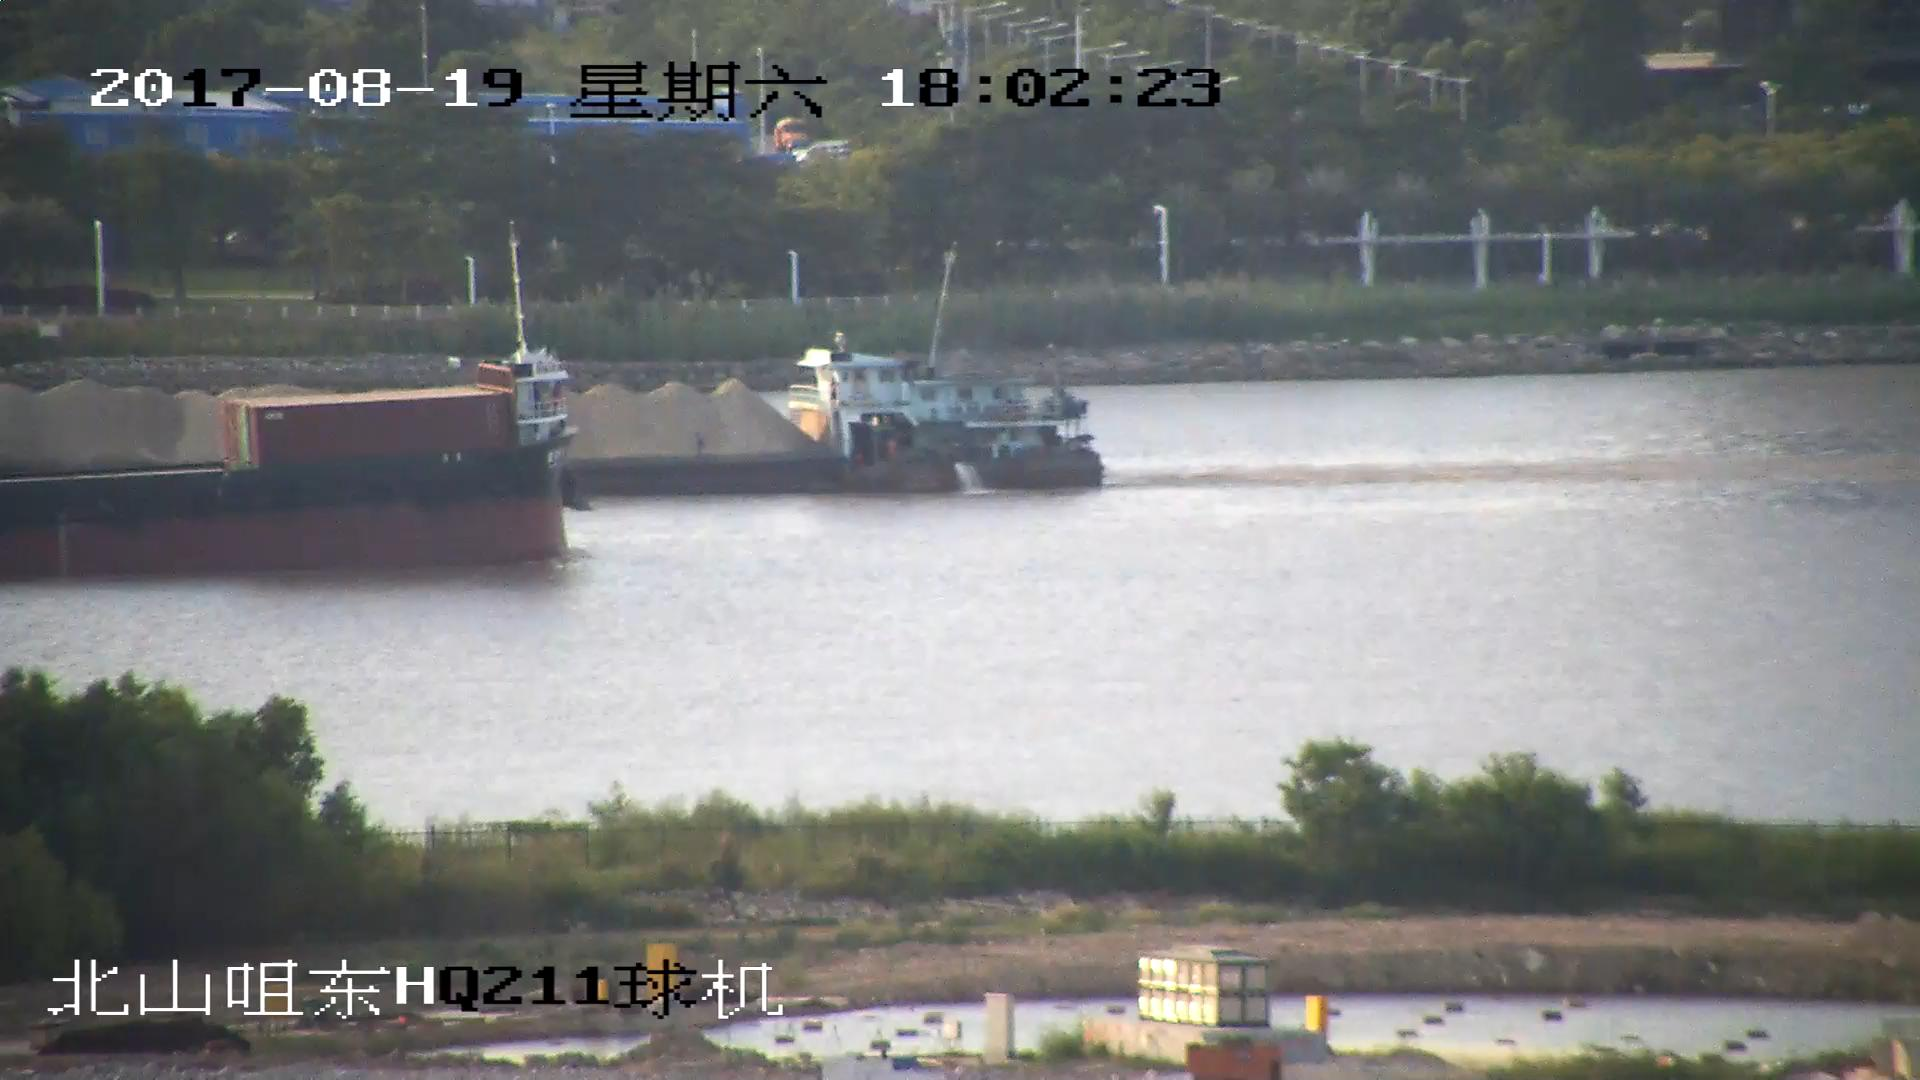container ship: (1, 356, 578, 567)
ore carrier: (1, 333, 1105, 497)
